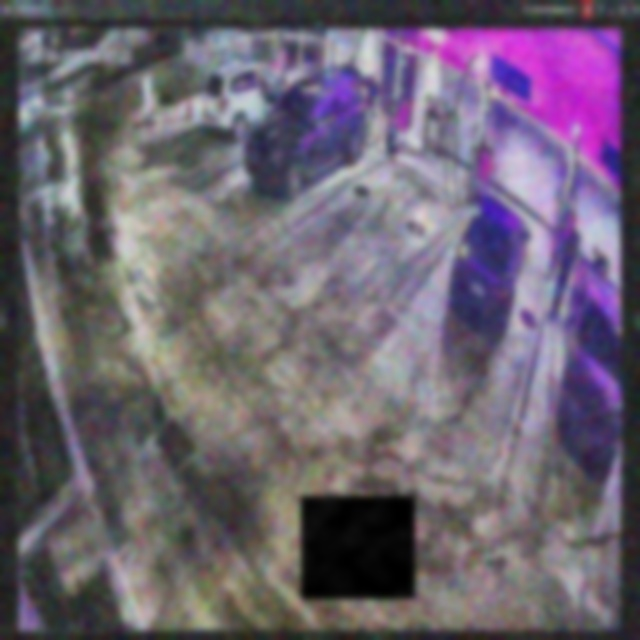Car: (244, 65, 368, 192), (447, 192, 528, 339), (201, 62, 296, 141)
